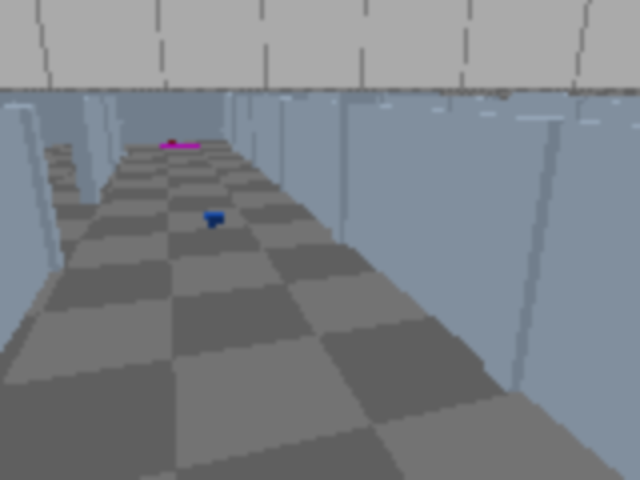goal_zone: (159, 143, 201, 150)
